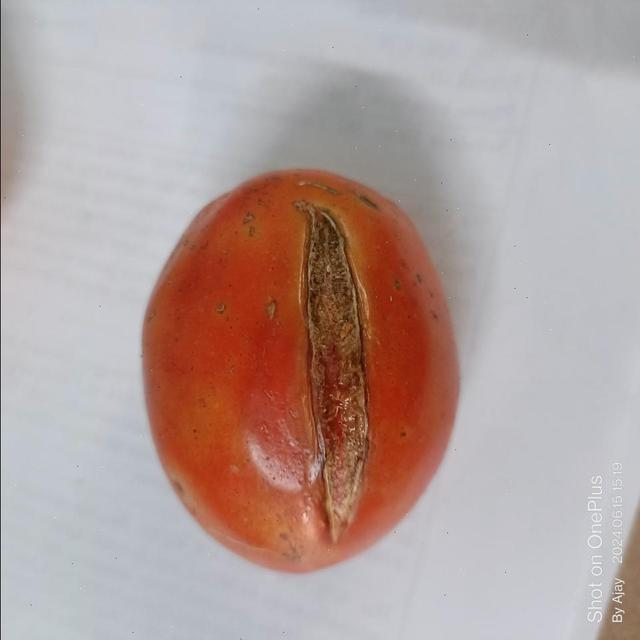Cracking Fruit: (107, 35, 309, 238)
